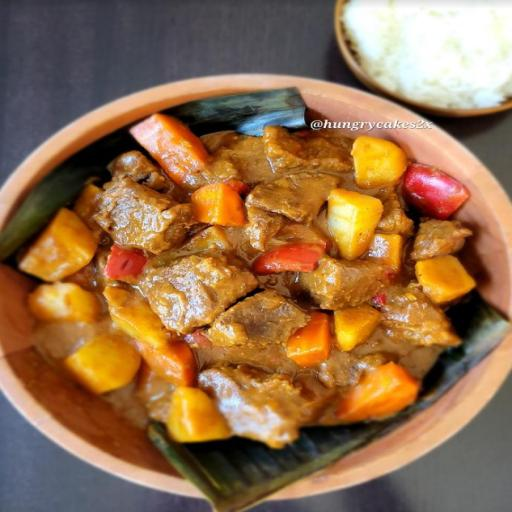pork caldereta: (0, 103, 512, 455)
